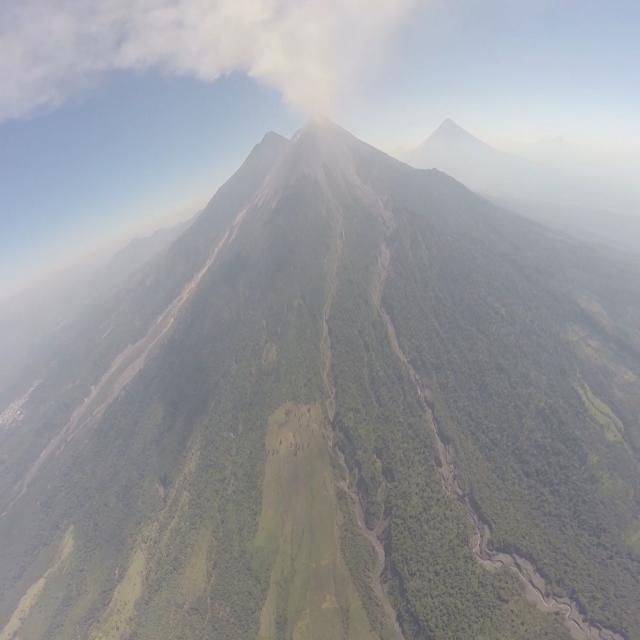Plume: (39, 2, 406, 128)
